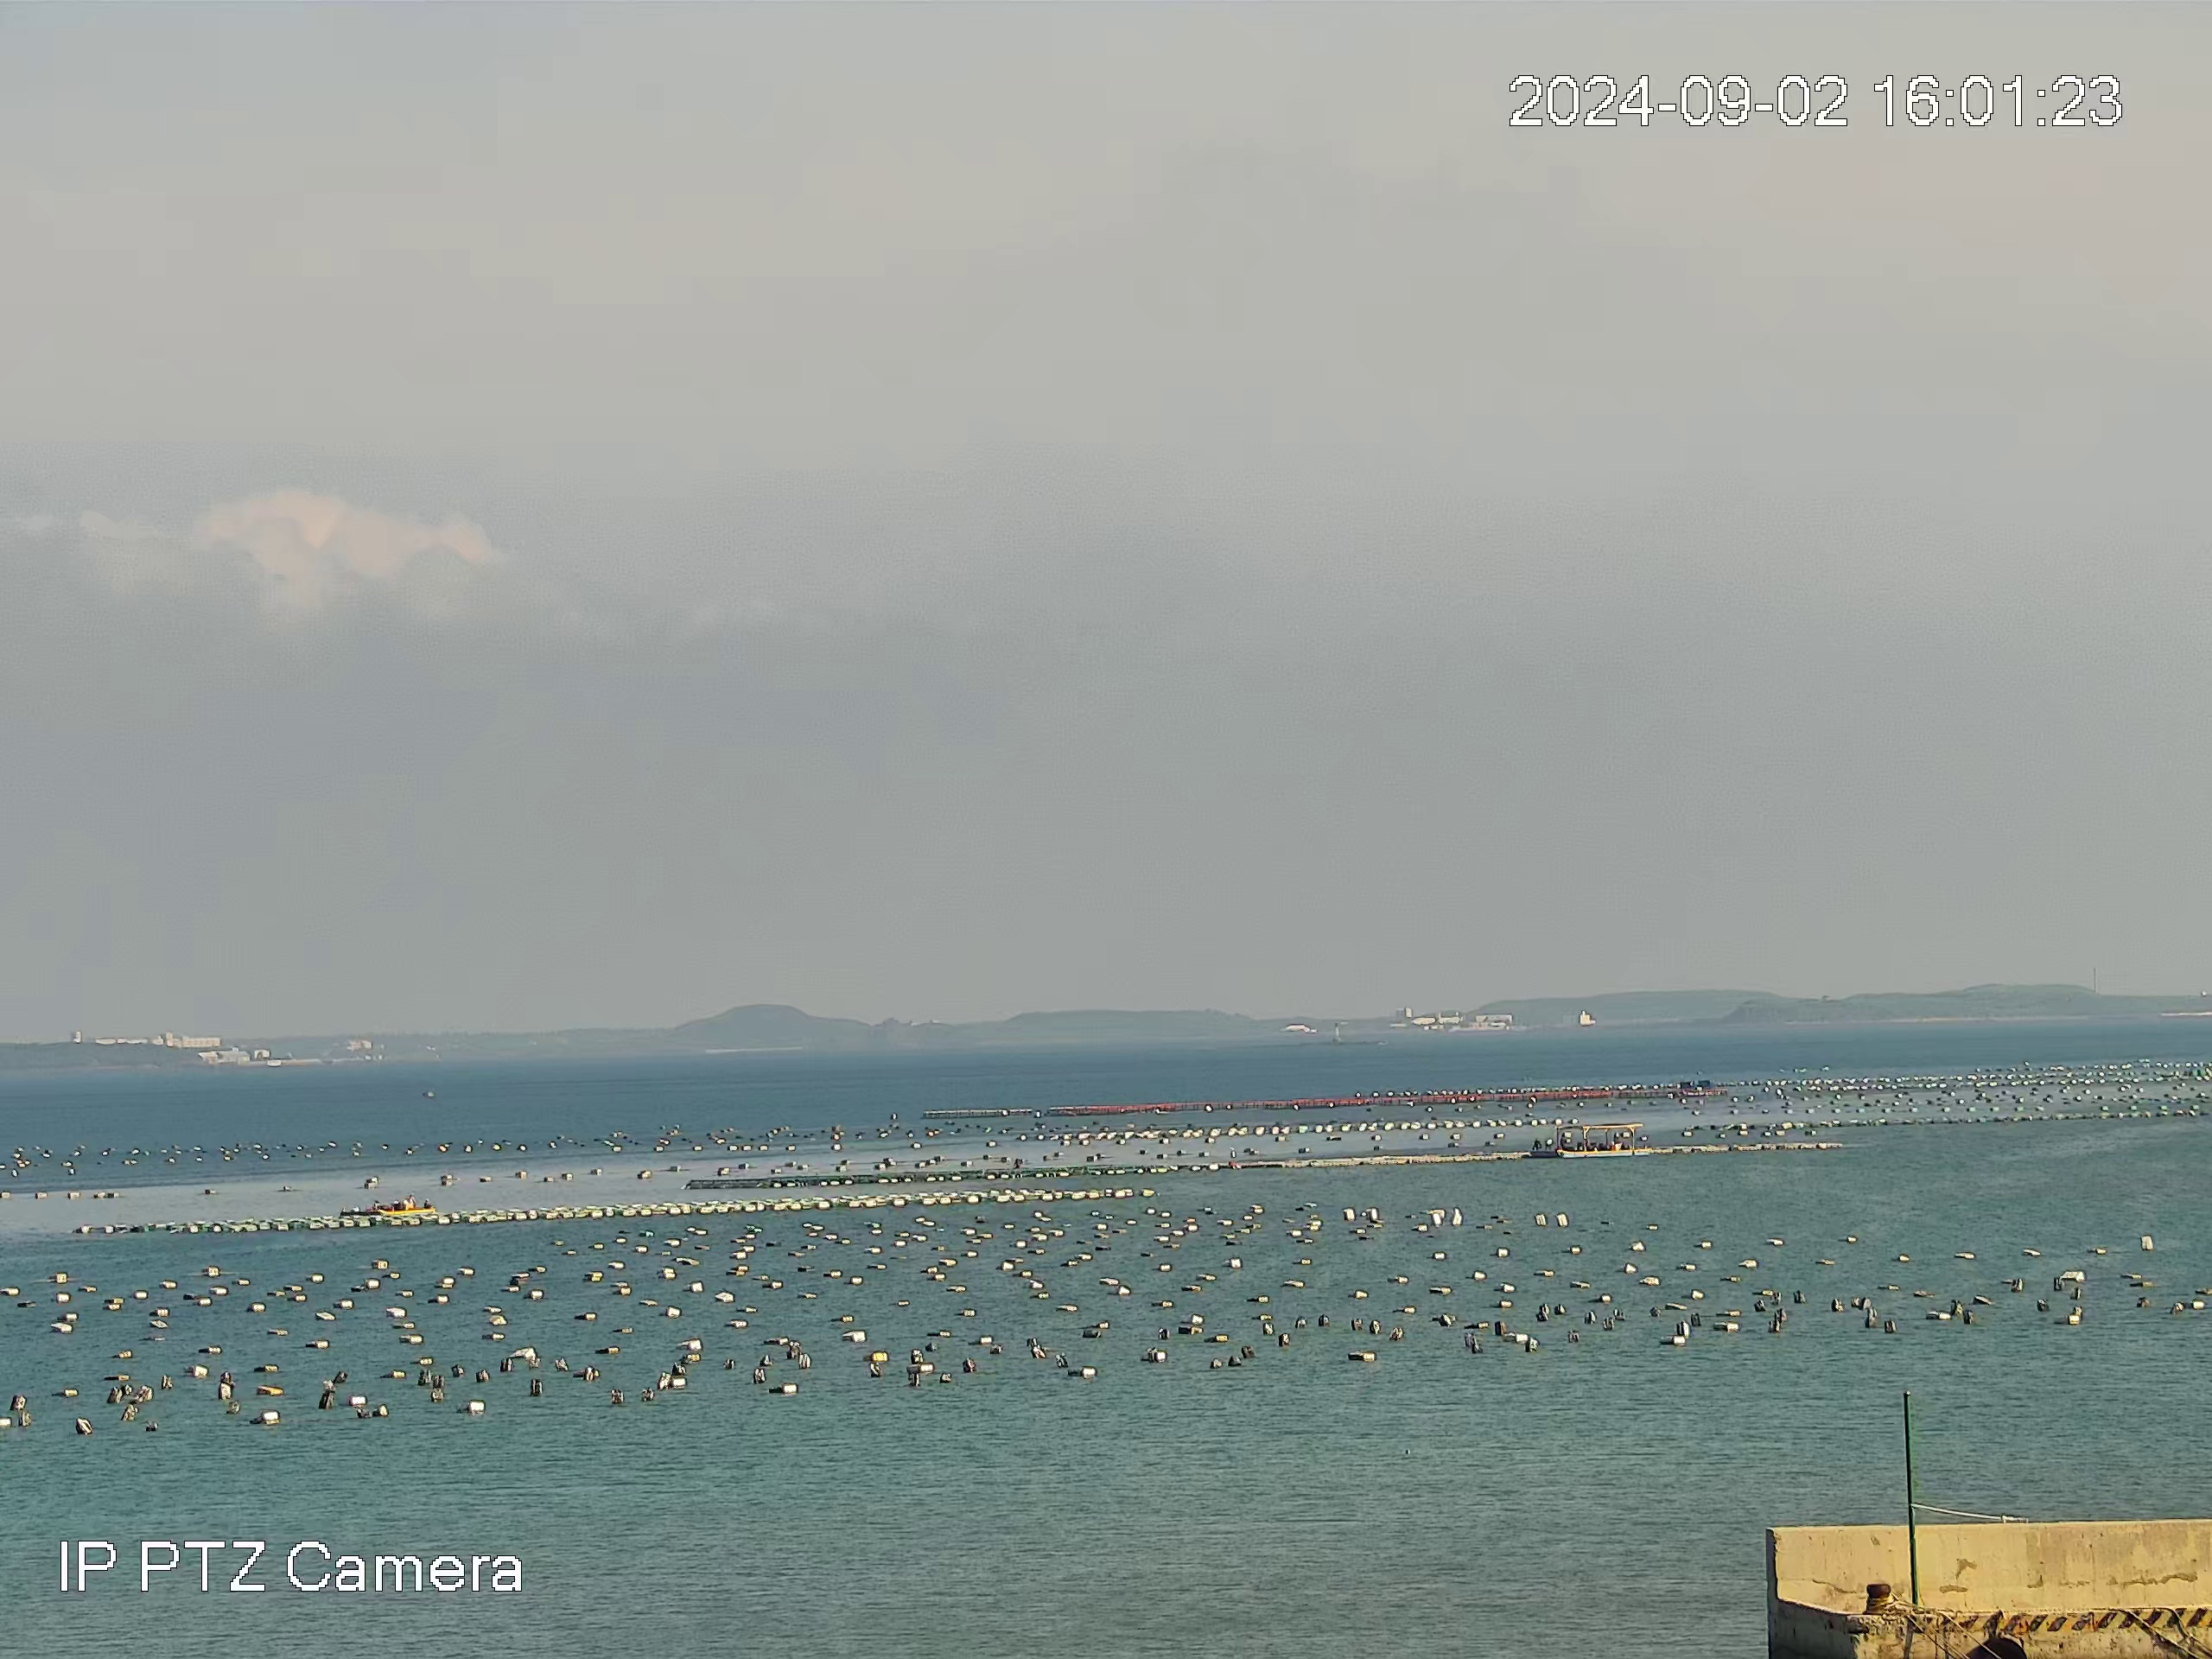boat: (1554, 1121, 1652, 1160), (339, 1192, 437, 1216)
